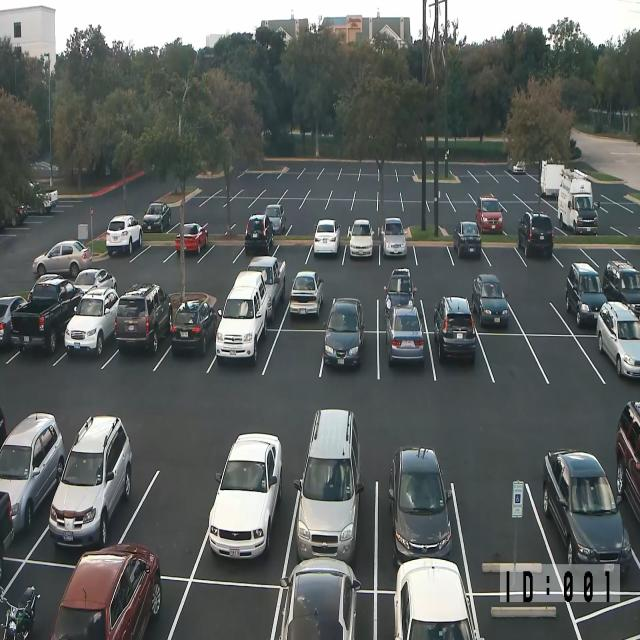space-empty: (457, 459, 548, 598), (128, 450, 215, 575), (160, 576, 278, 640), (535, 332, 593, 390), (484, 333, 540, 392), (268, 328, 322, 384), (324, 282, 380, 330), (418, 283, 473, 330), (512, 286, 561, 336), (484, 230, 522, 271), (413, 232, 452, 271), (553, 239, 591, 271), (137, 236, 173, 268), (206, 236, 242, 268), (274, 235, 310, 262), (499, 203, 530, 230), (456, 200, 480, 227), (350, 213, 377, 236), (316, 215, 347, 235), (288, 218, 318, 237), (414, 213, 442, 233), (516, 181, 540, 202), (240, 218, 266, 236), (302, 197, 328, 212), (252, 199, 278, 214), (330, 186, 356, 200), (354, 186, 379, 200), (229, 197, 254, 211), (207, 195, 231, 209), (384, 215, 405, 231), (281, 196, 303, 211), (183, 196, 207, 209), (494, 188, 516, 202), (488, 164, 511, 177), (451, 164, 474, 177), (239, 185, 262, 198), (399, 186, 420, 200), (448, 188, 470, 201), (420, 183, 439, 198), (401, 200, 421, 214), (262, 185, 283, 198), (378, 188, 400, 200), (435, 199, 454, 212), (359, 164, 379, 176), (242, 170, 262, 181), (394, 165, 413, 176), (338, 172, 358, 182), (319, 170, 339, 180), (261, 170, 281, 180), (436, 169, 452, 181), (302, 166, 321, 175), (397, 177, 416, 186), (378, 175, 398, 182), (283, 168, 302, 175)
space-occupied: (293, 447, 376, 586), (378, 453, 460, 583), (205, 456, 291, 576), (56, 432, 136, 554), (546, 454, 620, 571), (59, 560, 164, 639), (0, 420, 59, 553), (272, 582, 374, 639), (214, 328, 271, 383), (592, 326, 640, 391), (238, 264, 288, 326), (433, 332, 487, 389), (323, 330, 377, 385), (379, 332, 432, 387), (560, 276, 610, 333), (162, 332, 215, 380), (286, 269, 329, 327), (62, 328, 115, 374), (470, 281, 514, 335), (114, 332, 165, 377), (16, 324, 64, 369), (625, 434, 639, 581), (517, 225, 558, 272), (379, 282, 421, 327), (449, 224, 487, 270), (556, 204, 596, 240), (380, 226, 413, 269), (175, 228, 208, 266), (345, 231, 378, 269), (310, 233, 344, 268), (242, 227, 274, 262), (109, 232, 141, 266), (142, 210, 170, 236), (0, 326, 16, 366)
